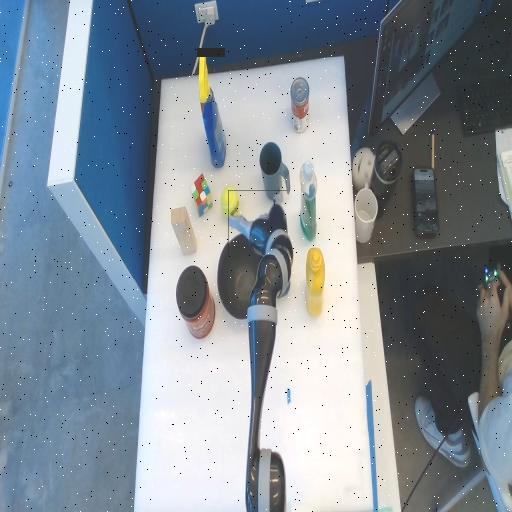bowl: (218, 233, 268, 318)
cleanser: (300, 162, 316, 241)
coffee_can: (176, 267, 214, 338)
jaco: (228, 190, 287, 255)
meat_can: (267, 261, 289, 282)
mug: (258, 156, 289, 186)
mustard_bottle: (306, 249, 324, 317)
rubik: (190, 174, 212, 217)
soup_can: (290, 97, 308, 115)
tennis_ball: (221, 188, 238, 218)
windex: (197, 96, 225, 118)
wooden_block: (171, 208, 195, 254)
workspace: (135, 57, 372, 509)
